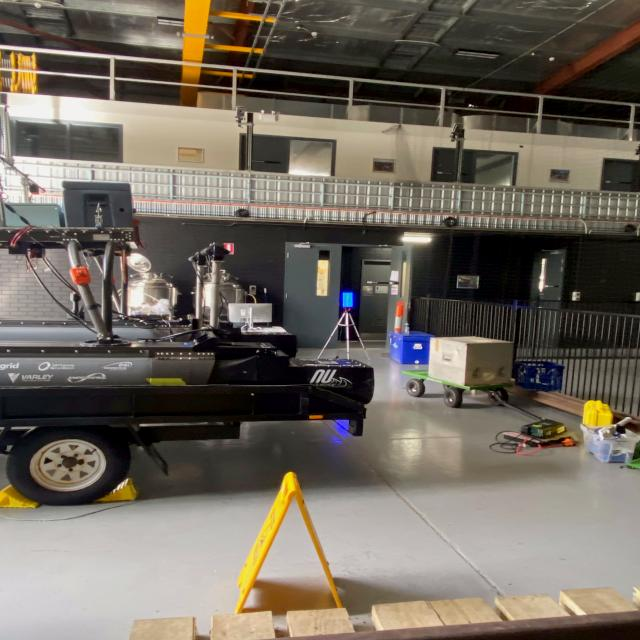matrix: (338, 287, 358, 312)
